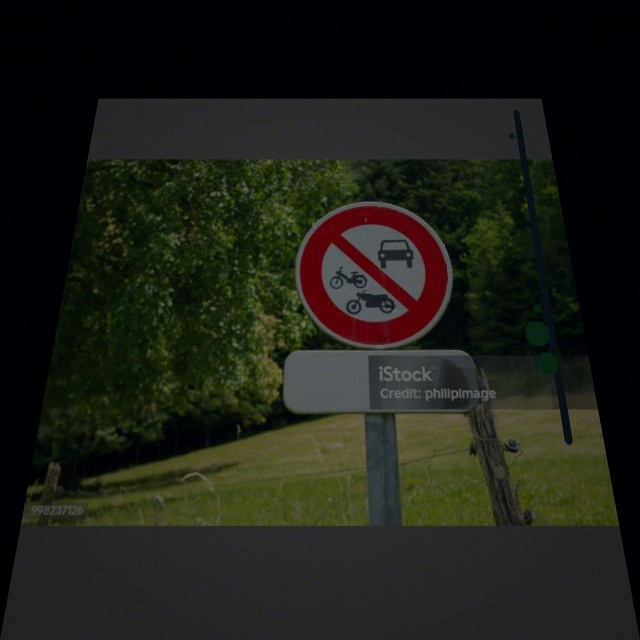All_Motor_Vehicles_Prohibited: (294, 200, 456, 349)
